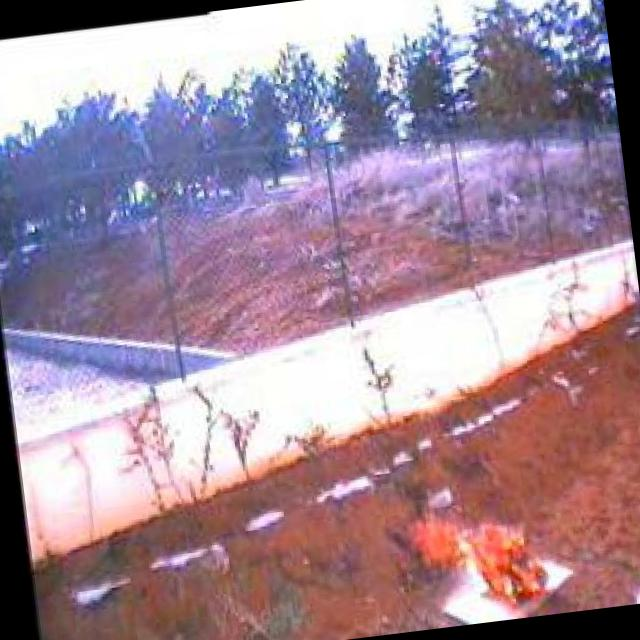Fire: (406, 500, 554, 620)
